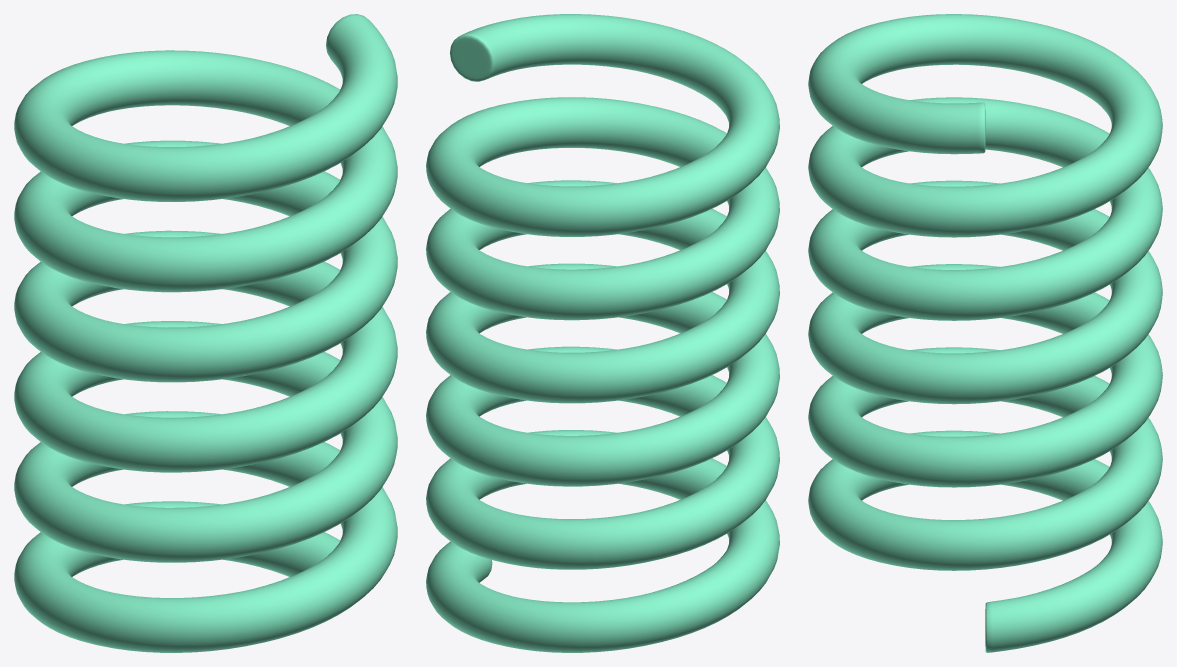
The model's file is spring.glb.
The picture shows the model from 3 angles, left to right: view 1: azimuth 30°, elevation 25°; view 2: azimuth 150°, elevation 25°; view 3: azimuth 270°, elevation 25°; orthographic projection. The views are drawn at different scales.
Visible parts, largest first — view 1: Spring; view 2: Spring; view 3: Spring.
Part boxes in pixels (x1,y1,x2,y2): Spring: (14,14,397,652); Spring: (426,14,779,652); Spring: (808,14,1162,652).
Bounding box in the file's own units: 1.74 × 2.95 × 1.74.
